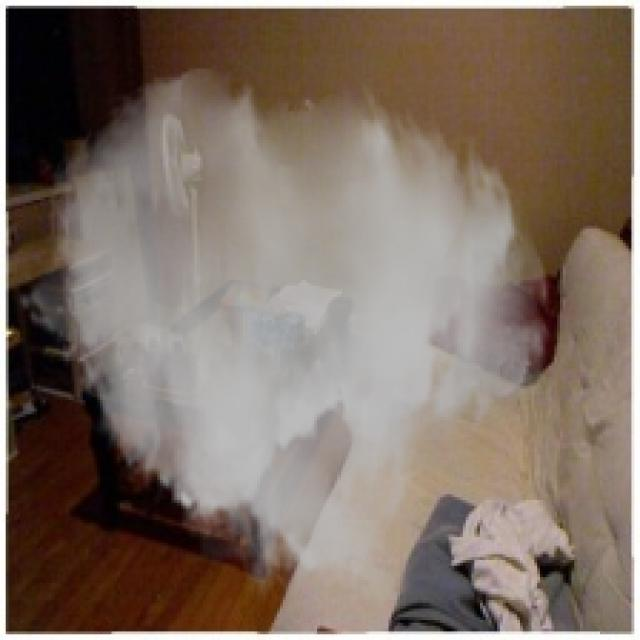smoke: (17, 63, 554, 611)
